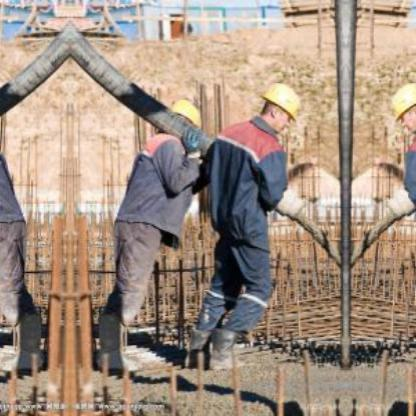helmet: (252, 77, 302, 140), (388, 76, 414, 140), (166, 98, 200, 135)
